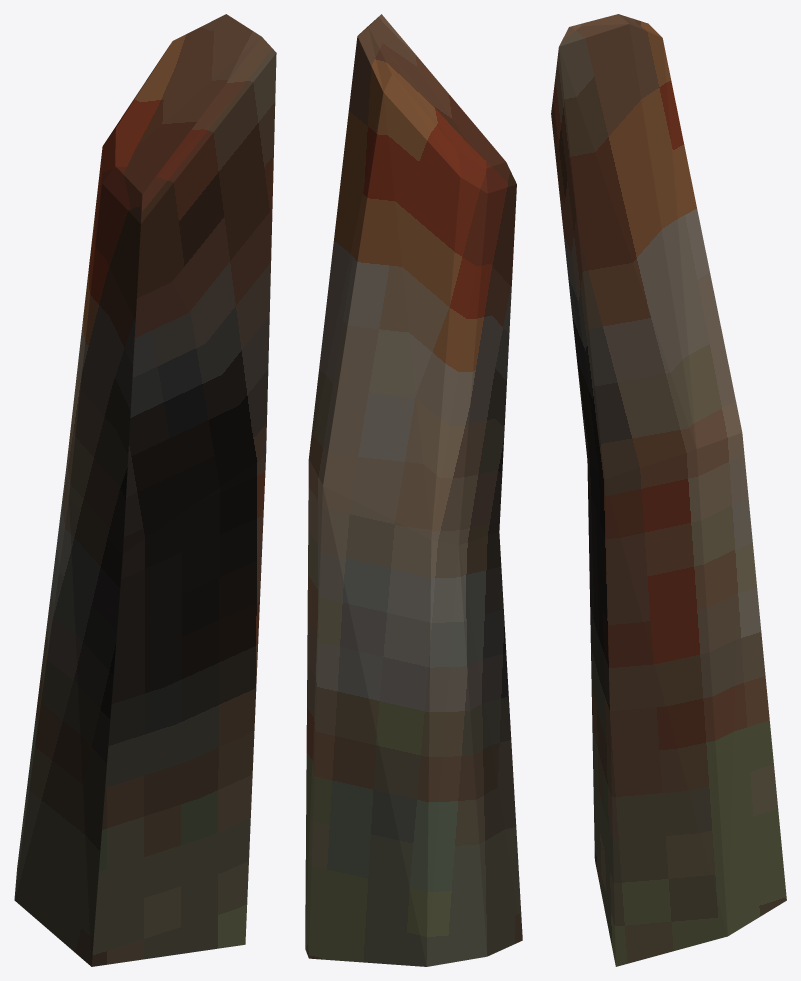
File: Curve_fence_leg_02.glb
3 views of the same model, side by side, from view 1: azimuth 30°, elevation 25°; view 2: azimuth 150°, elevation 25°; view 3: azimuth 270°, elevation 25° (orthographic). The views are drawn at different scales.
Parts seen in each view (by area): view 1: Curve_fence_leg_02; view 2: Curve_fence_leg_02; view 3: Curve_fence_leg_02.
Part boxes in pixels (box(x1,y1,x2,y2)): Curve_fence_leg_02: box(14, 14, 276, 966); Curve_fence_leg_02: box(305, 14, 522, 966); Curve_fence_leg_02: box(551, 14, 786, 966).
Bounding box in the file's own units: 0.4441 × 1.99 × 0.4495.
1 material, 1 textured.
